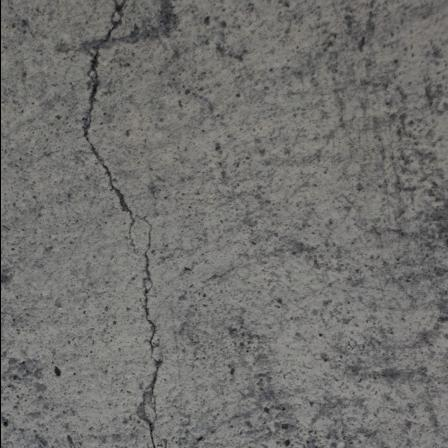crack: (61, 0, 180, 448)
